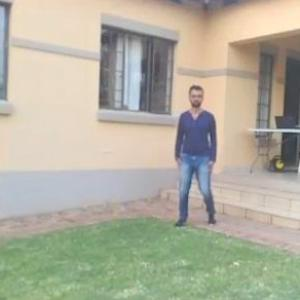follow: (172, 77, 218, 237)
